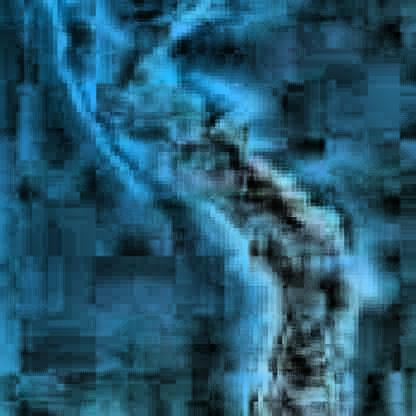sheen: (51, 10, 378, 412)
